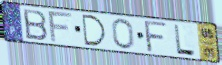B: (21, 8, 49, 42)
D: (80, 13, 108, 48)
F: (47, 11, 75, 44), (144, 20, 170, 54)
L: (172, 23, 198, 58)
O: (110, 17, 136, 51)
